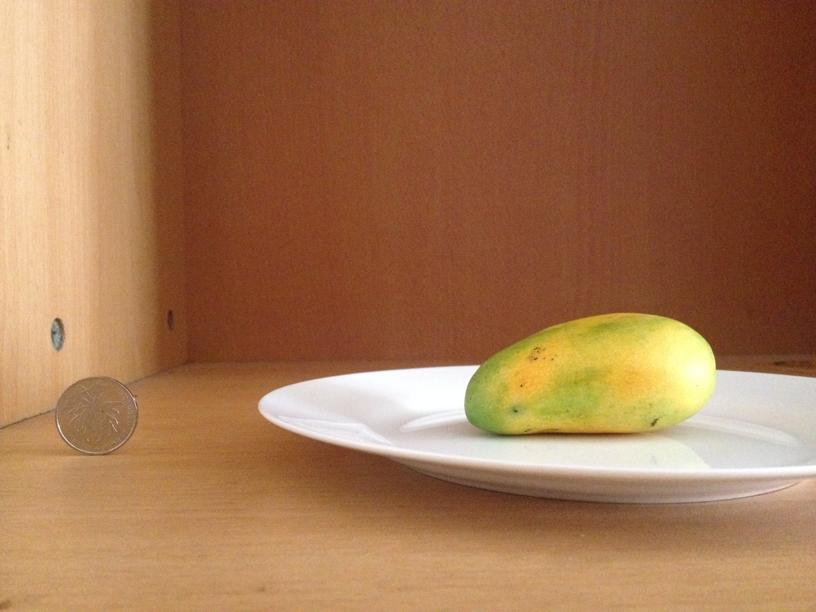coin: (53, 375, 138, 454)
mango: (463, 311, 715, 434)
